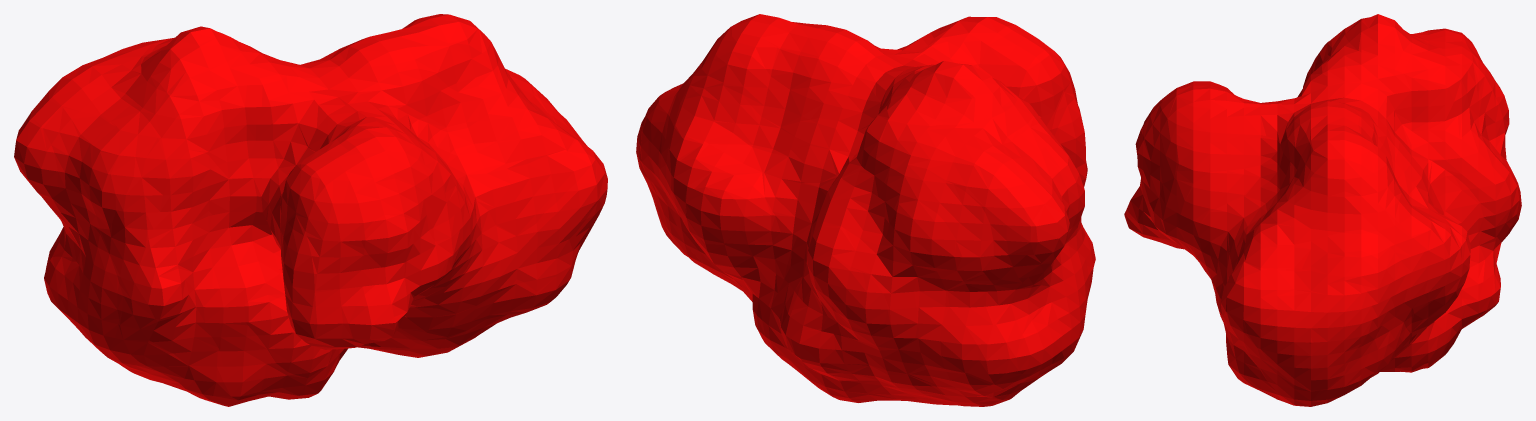
Rendered from gapA_coarse.dae.
3 views of the same model, side by side, from view 1: azimuth 30°, elevation 25°; view 2: azimuth 150°, elevation 25°; view 3: azimuth 270°, elevation 25° (orthographic). The views are drawn at different scales.
Parts seen in each view (by area): view 1: gapA; view 2: gapA; view 3: gapA.
Part boxes in pixels (x1,y1,x2,y2): gapA: [14, 14, 607, 406]; gapA: [636, 14, 1095, 406]; gapA: [1124, 14, 1521, 406].
Size of the model in its own units: 68.9 by 47.18 by 54.34.
